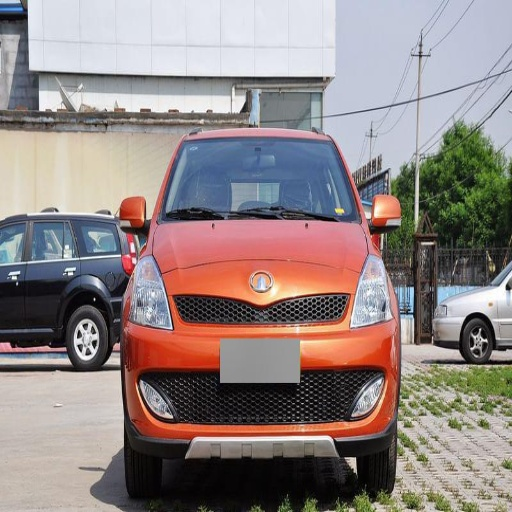front_bumper: (127, 267, 396, 456)
front_glass: (162, 141, 359, 222)
front_left_door: (3, 219, 29, 328)
front_right_light: (126, 257, 172, 330)
hood: (150, 222, 369, 294)
left_mirror: (368, 194, 402, 233)
